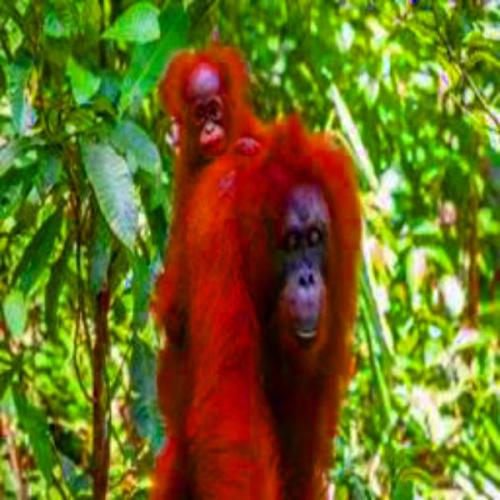orangutan-endangered: (151, 121, 358, 500), (159, 43, 269, 209)
